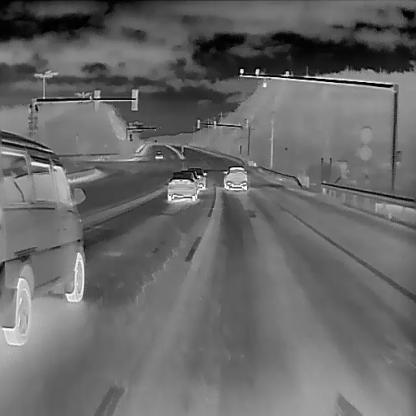car: (0, 128, 86, 346), (166, 170, 198, 201), (222, 163, 247, 191), (186, 166, 207, 190), (154, 148, 162, 158)
